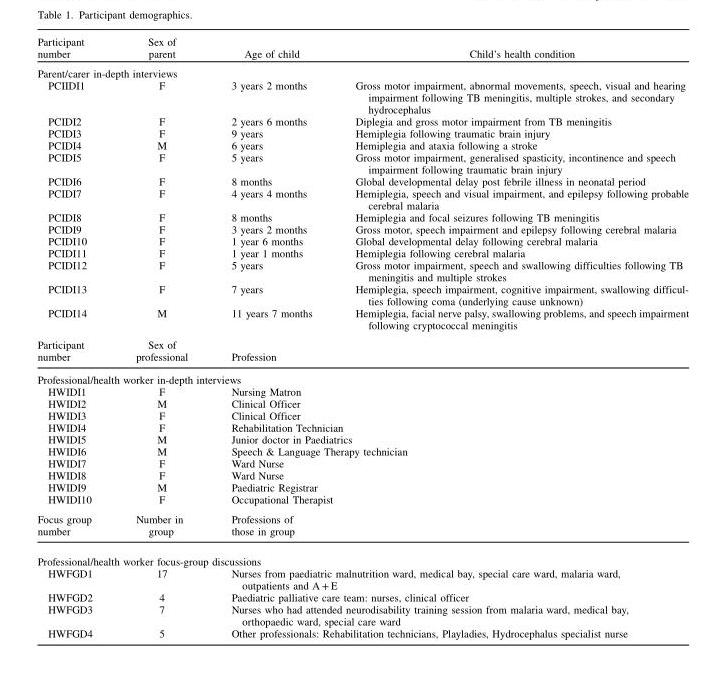table: (36, 36, 688, 638)
table column: (333, 36, 688, 638), (209, 36, 333, 638), (113, 36, 209, 638), (36, 36, 113, 638)
table column header: (36, 36, 688, 63)
table projected row header: (36, 546, 688, 567), (36, 368, 688, 385), (36, 63, 688, 79)
table row: (36, 509, 688, 546), (36, 79, 688, 115), (36, 335, 688, 368), (36, 307, 688, 335), (36, 36, 688, 63), (36, 151, 688, 175), (36, 187, 688, 211), (36, 259, 688, 283), (36, 283, 688, 307), (36, 567, 688, 591), (36, 603, 688, 627), (36, 546, 688, 567), (36, 368, 688, 385), (36, 63, 688, 79), (36, 493, 688, 509), (36, 115, 688, 127), (36, 127, 688, 139), (36, 139, 688, 151), (36, 175, 688, 187), (36, 211, 688, 223), (36, 223, 688, 235), (36, 235, 688, 247), (36, 247, 688, 259), (36, 385, 688, 397), (36, 397, 688, 409), (36, 409, 688, 421), (36, 421, 688, 433), (36, 433, 688, 445), (36, 445, 688, 457), (36, 457, 688, 469), (36, 469, 688, 481), (36, 481, 688, 493), (36, 591, 688, 603), (36, 627, 688, 638)
table spanning cell: (209, 509, 688, 546), (209, 335, 688, 368), (209, 567, 688, 591), (209, 603, 688, 627), (209, 493, 688, 509), (209, 385, 688, 397), (209, 397, 688, 409), (209, 409, 688, 421), (209, 421, 688, 433), (209, 433, 688, 445), (209, 445, 688, 457), (209, 457, 688, 469), (209, 469, 688, 481), (209, 481, 688, 493), (209, 591, 688, 603), (209, 627, 688, 638)
